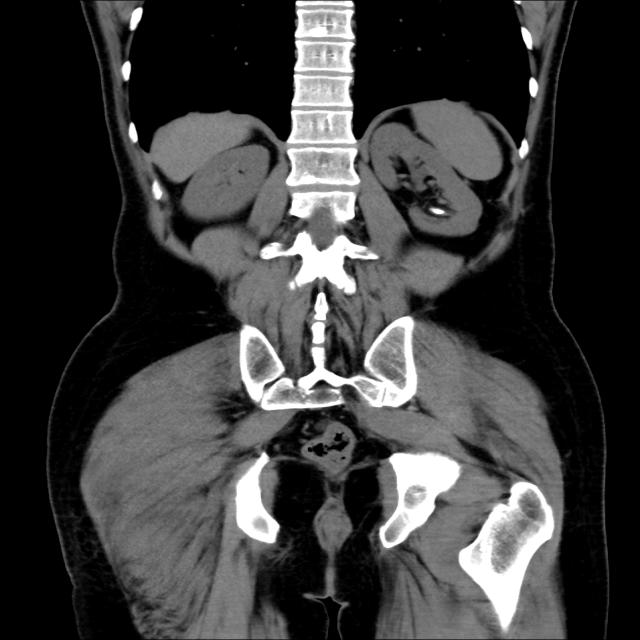kidneystone: (429, 206, 446, 215)
